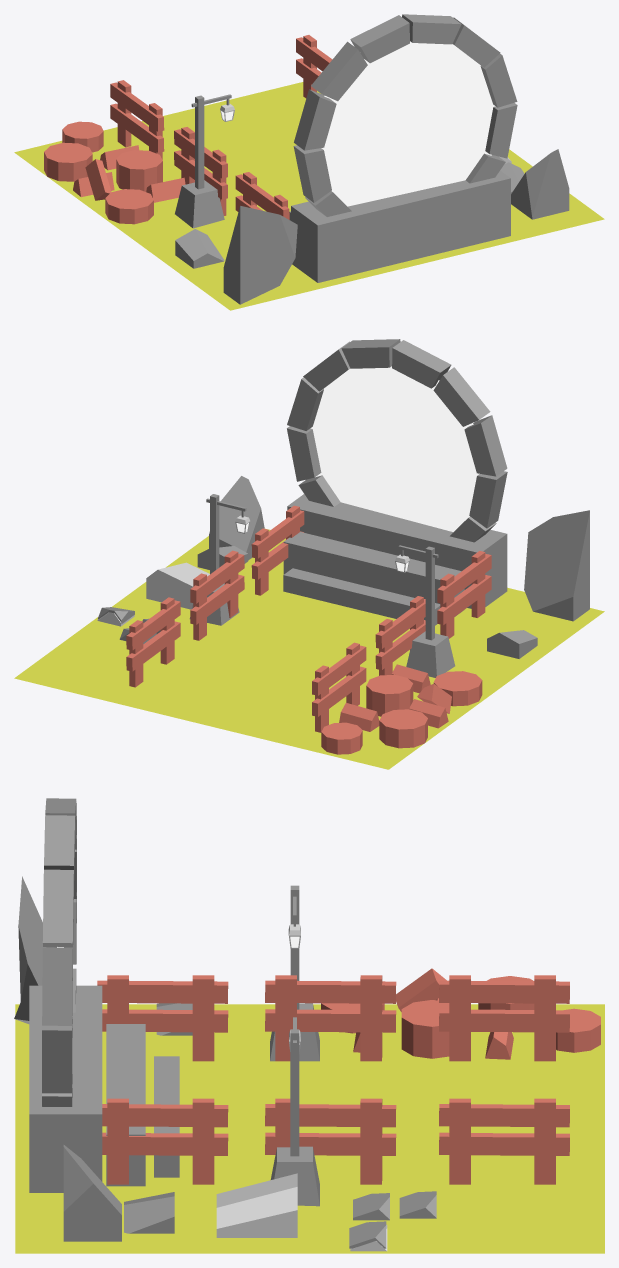
Rendered from portal.gltf.
3 views of the same model, one above another, from view 1: azimuth 30°, elevation 25°; view 2: azimuth 150°, elevation 25°; view 3: azimuth 270°, elevation 25° (orthographic). The views are drawn at different scales.
Parts seen in each view (by area): view 1: 平面, 圆环, 立方体.012, 立方体.035, 立方体.001, 立方体.007, 立方体.014, 立方体.002, 柱体.001, 柱体.002, 柱体.003, 立方体.016 (+6 smaller); view 2: 平面, 圆环, 立方体.035, 立方体, 立方体.001, 立方体.012, 立方体.007, 立方体.031, 立方体.032, 立方体.002, 立方体.014, 立方体.015 (+8 smaller); view 3: 平面, 立方体.001, 立方体, 立方体.012, 立方体.035, 立方体.015, 立方体.014, 立方体.031, 立方体.008, 立方体.007, 柱体.001, 立方体.032 (+8 smaller).
Part boxes in pixels (left/top/right/bottom): 平面: left=14, top=82, right=604, bottom=310; 圆环: left=321, top=41, right=495, bottom=206; 立方体.012: left=291, top=170, right=510, bottom=282; 立方体.035: left=293, top=14, right=517, bottom=216; 立方体.001: left=110, top=80, right=289, bottom=219; 立方体.007: left=223, top=206, right=297, bottom=304; 立方体.014: left=511, top=149, right=569, bottom=219; 立方体.002: left=175, top=94, right=231, bottom=228; 柱体.001: left=116, top=150, right=162, bottom=191; 柱体.002: left=44, top=142, right=92, bottom=181; 柱体.003: left=105, top=189, right=153, bottom=224; 立方体.016: left=175, top=229, right=224, bottom=268; 平面: left=14, top=528, right=604, bottom=769; 圆环: left=310, top=366, right=479, bottom=532; 立方体.035: left=287, top=339, right=507, bottom=542; 立方体: left=126, top=505, right=304, bottom=687; 立方体.001: left=312, top=551, right=491, bottom=732; 立方体.012: left=287, top=494, right=507, bottom=608; 立方体.007: left=524, top=510, right=589, bottom=621; 立方体.031: left=283, top=532, right=464, bottom=616; 立方体.032: left=283, top=568, right=440, bottom=625; 立方体.002: left=398, top=545, right=455, bottom=677; 立方体.014: left=209, top=476, right=264, bottom=560; 立方体.015: left=146, top=562, right=209, bottom=609; 平面: left=15, top=1004, right=604, bottom=1253; 立方体.001: left=97, top=975, right=569, bottom=1061; 立方体: left=102, top=1098, right=569, bottom=1184; 立方体.012: left=29, top=985, right=102, bottom=1192; 立方体.035: left=42, top=798, right=76, bottom=1106; 立方体.015: left=216, top=1173, right=297, bottom=1237; 立方体.014: left=63, top=1145, right=121, bottom=1241; 立方体.031: left=106, top=1024, right=145, bottom=1186; 立方体.008: left=270, top=1017, right=319, bottom=1206; 立方体.007: left=14, top=876, right=46, bottom=1023; 柱体.001: left=401, top=1000, right=449, bottom=1058; 立方体.032: left=154, top=1056, right=179, bottom=1177.
Bounding box in the file's own units: 4.02 × 2.39 × 4.01.
